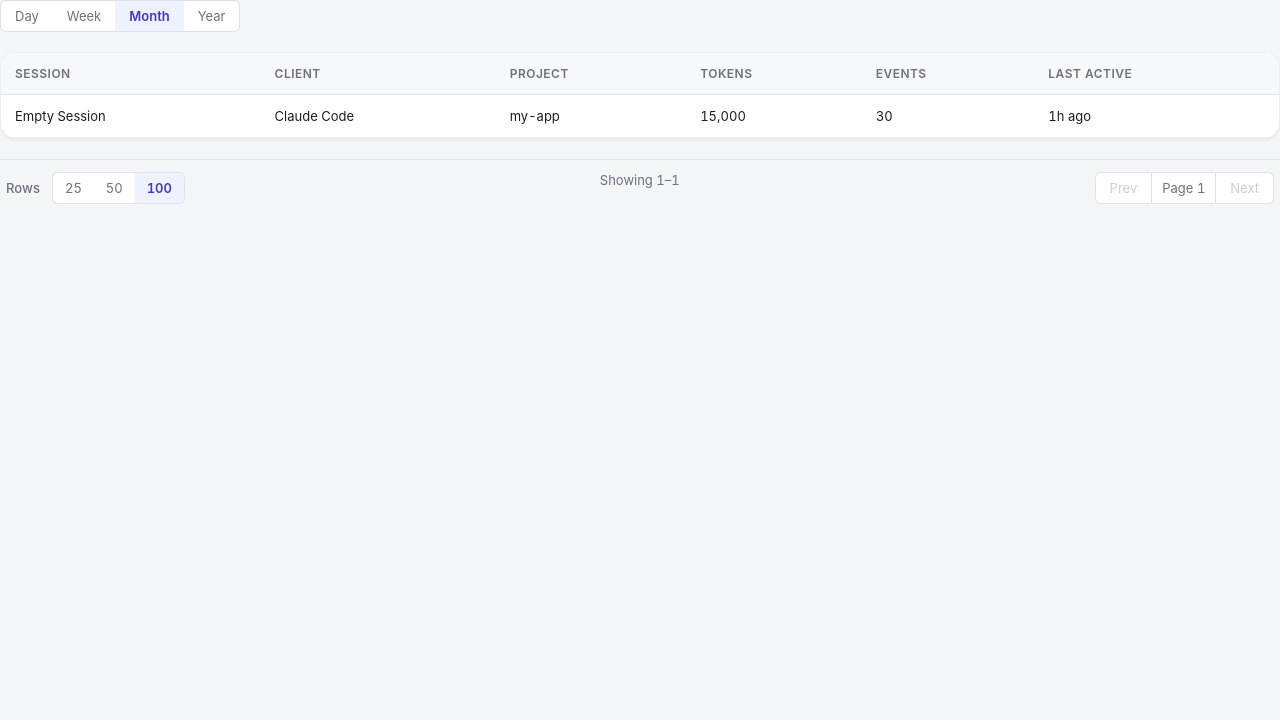
Scenario: SessionsPage › shows detail drawer empty state when detail returns no data
Click the text "Empty Session".
click(131, 116)  # box [1,94,261,138]
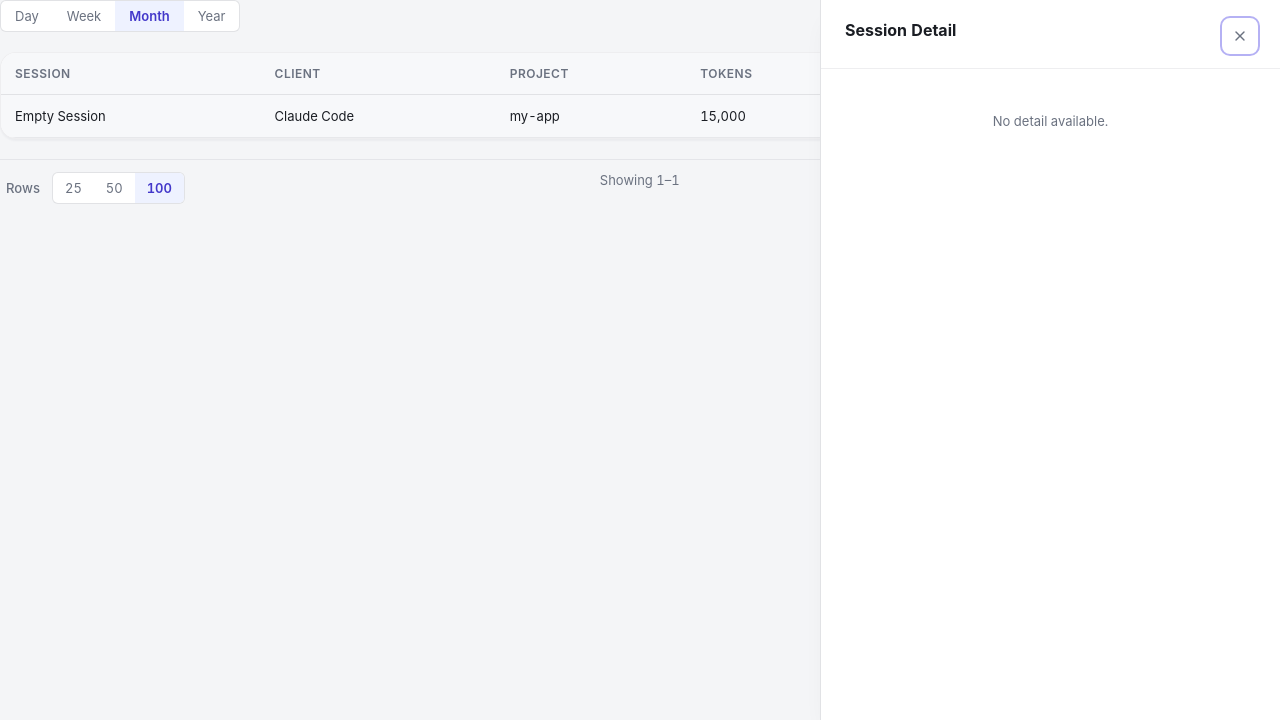
Expected: the text "No detail available." is shown, [993,113,1108,129]
